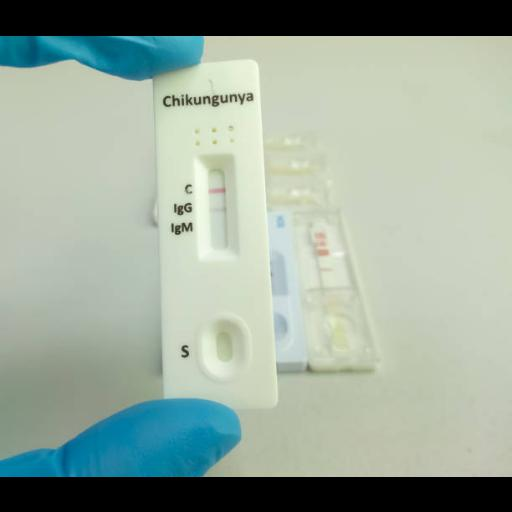Pos: (155, 58, 279, 410)
